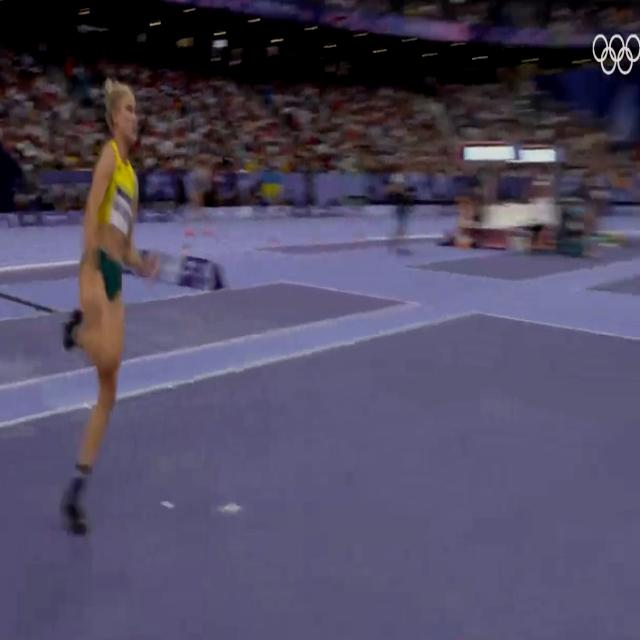run: (26, 61, 159, 488)
